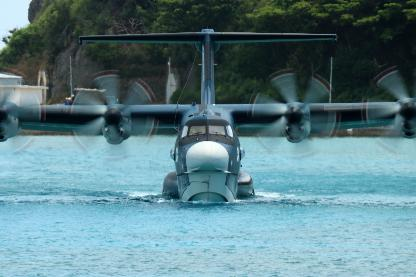Tu95: (0, 26, 416, 201)
